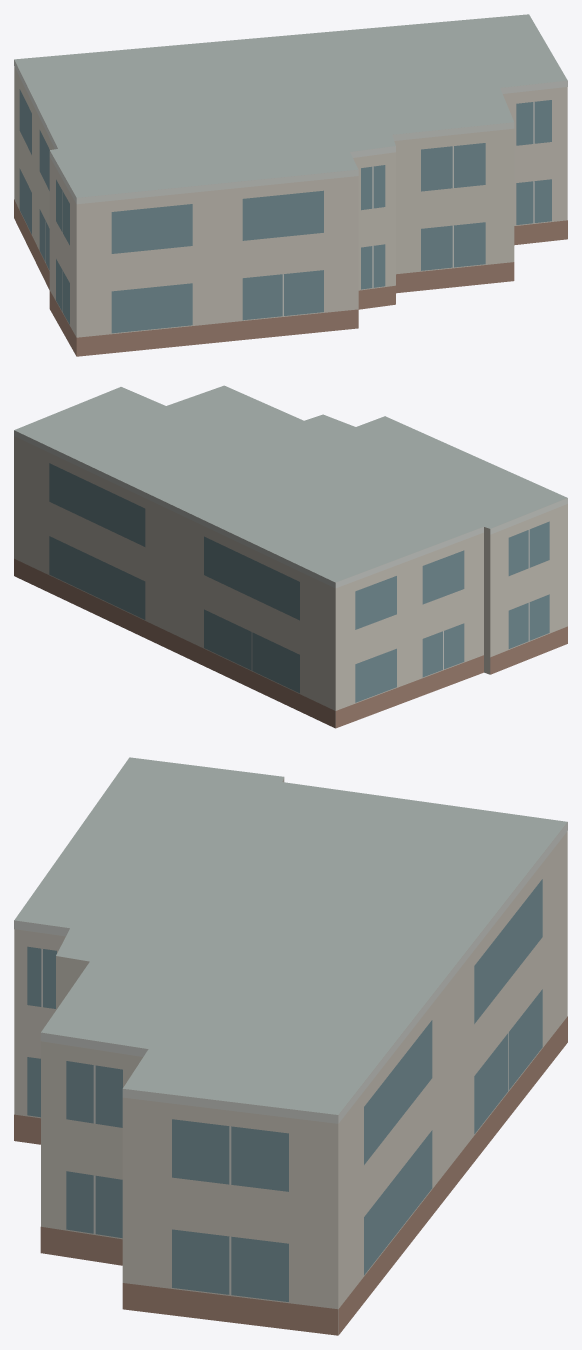
The model's file is survey-upis-32654722.glb.
3 views of the same model, one above another, from view 1: azimuth 30°, elevation 25°; view 2: azimuth 150°, elevation 25°; view 3: azimuth 270°, elevation 25° (orthographic). The views are drawn at different scales.
Parts seen in each view (by area): view 1: survey-upis-32654722.tmp; view 2: survey-upis-32654722.tmp; view 3: survey-upis-32654722.tmp.
Boxes of the visible parts, x1=… form: survey-upis-32654722.tmp: x1=14, y1=14, x2=567, y2=356; survey-upis-32654722.tmp: x1=14, y1=385, x2=567, y2=728; survey-upis-32654722.tmp: x1=14, y1=757, x2=567, y2=1335.
Size of the model in its own units: 21.23 by 6.1 by 13.89.
